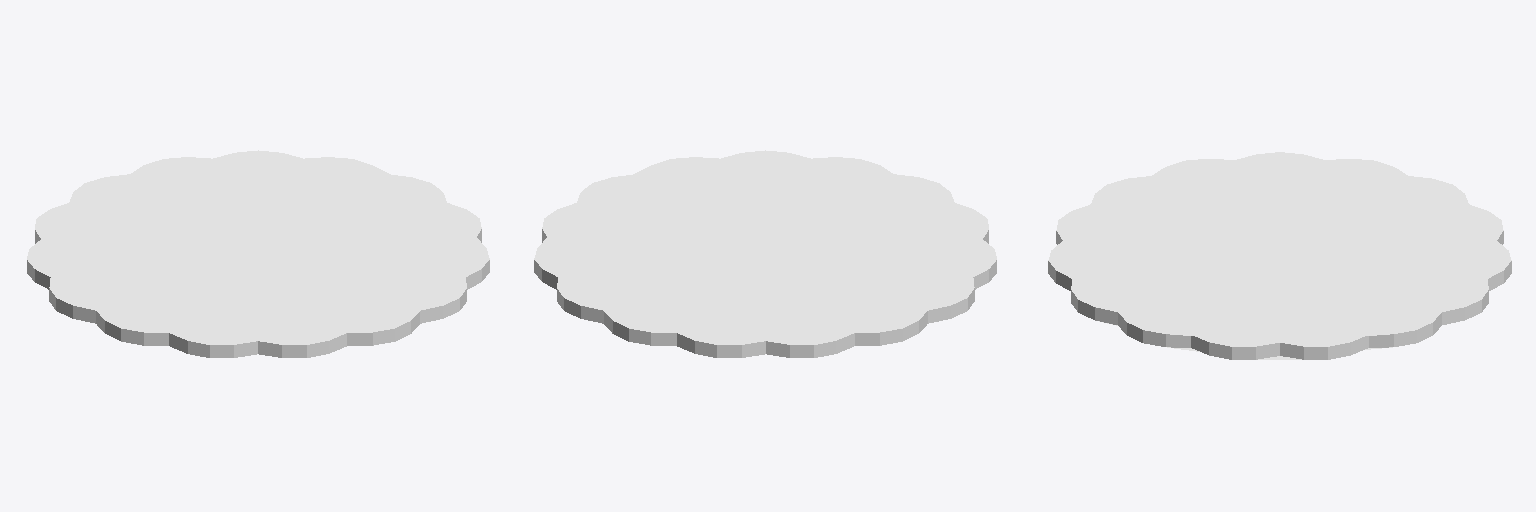
The model's file is wedding-cake-with-shading.obj.
3 renders of one model, left to right at view 1: azimuth 30°, elevation 25°; view 2: azimuth 150°, elevation 25°; view 3: azimuth 270°, elevation 25°, orthographic.
Size of the model in its own units: 31.65 by 1 by 31.82.